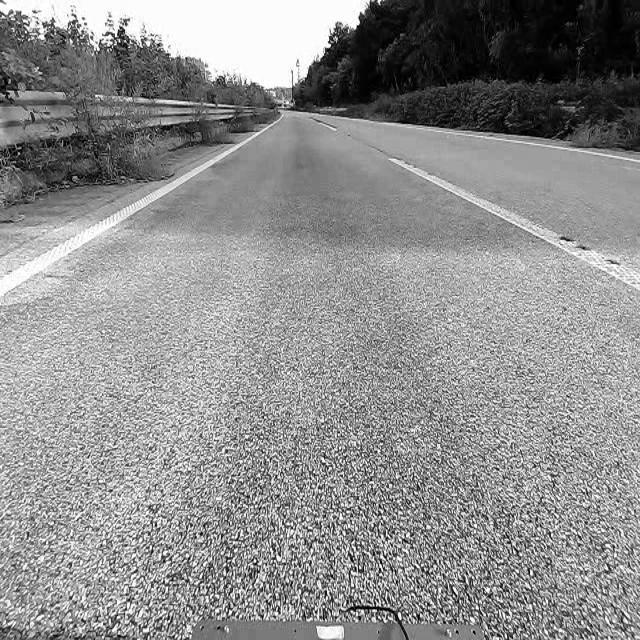Lane: (300, 97, 640, 327), (0, 92, 288, 305), (0, 121, 278, 304), (388, 155, 639, 290), (312, 118, 336, 131)
